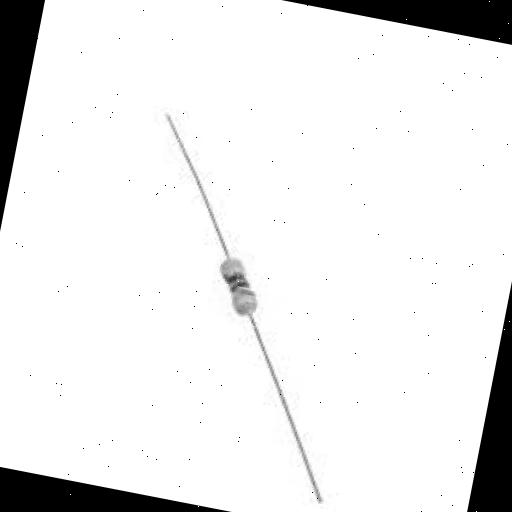RESISTOR: (135, 181, 327, 374)
